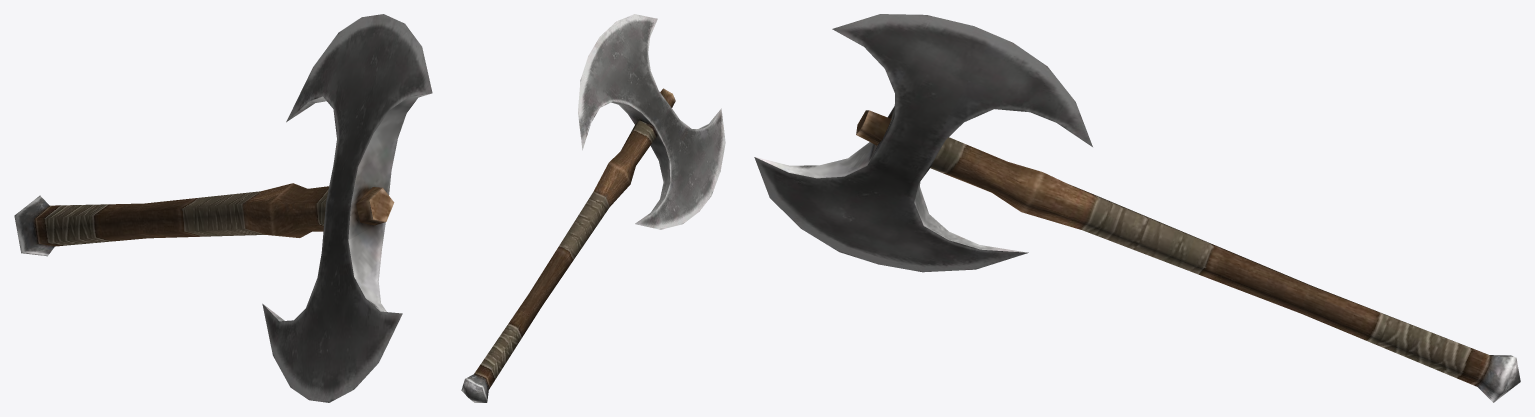
File: weapon-slice-gjallarhorn.glb
The picture shows the model from 3 angles, left to right: view 1: azimuth 30°, elevation 25°; view 2: azimuth 150°, elevation 25°; view 3: azimuth 270°, elevation 25°; orthographic projection. The views are drawn at different scales.
Size of the model in its own units: 0.3443 by 1.15 by 1.93.
1 material, 1 textured.
